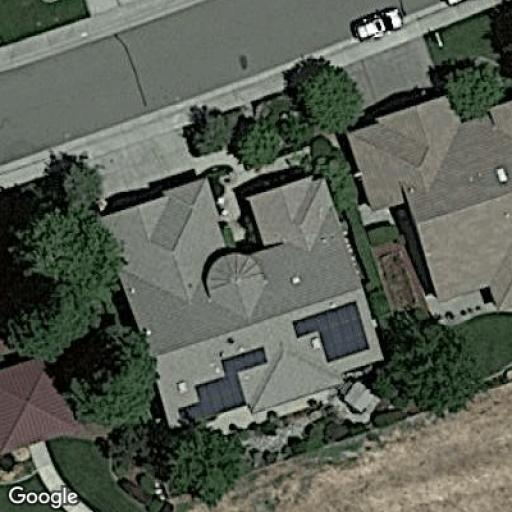solar-panel: (178, 347, 268, 423), (293, 300, 370, 363)
